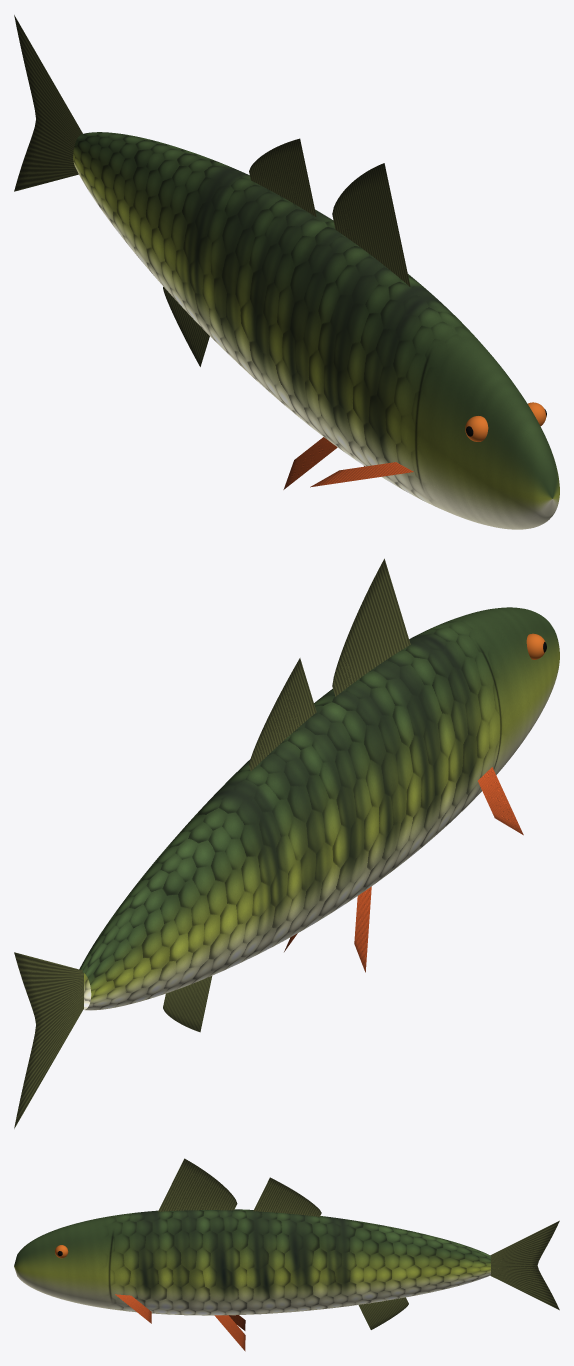
File: okun.obj
3 views of the same model, one above another, from view 1: azimuth 30°, elevation 25°; view 2: azimuth 150°, elevation 25°; view 3: azimuth 270°, elevation 25° (orthographic). The views are drawn at different scales.
Parts seen in each view (by area): view 1: body, fin_tail, fin_dorsal0, fin_dorsal1, fin_anal0, fin_pect_R, fin_pelv_R; view 2: body, fin_tail, fin_dorsal0, fin_dorsal1, fin_anal0, fin_pect_R, fin_pelv_R; view 3: body, fin_tail, fin_dorsal0, fin_dorsal1, fin_anal0, fin_pelv_L, fin_pect_L.
Boxes of the visible parts, box(x1,y1,x2,y2) form: body: box(73, 132, 559, 529); fin_tail: box(14, 15, 82, 191); fin_dorsal0: box(332, 163, 410, 286); fin_dorsal1: box(249, 138, 316, 216); fin_anal0: box(163, 287, 209, 366); fin_pect_R: box(310, 462, 413, 487); fin_pelv_R: box(283, 437, 337, 489); body: box(79, 607, 559, 1010); fin_tail: box(14, 952, 83, 1128); fin_dorsal0: box(332, 558, 410, 696); fin_dorsal1: box(249, 658, 316, 770); fin_anal0: box(163, 976, 212, 1032); fin_pect_R: box(478, 767, 523, 835); fin_pelv_R: box(354, 886, 371, 972); body: box(14, 1209, 490, 1315); fin_tail: box(490, 1220, 559, 1310); fin_dorsal0: box(158, 1158, 237, 1211); fin_dorsal1: box(253, 1177, 321, 1216); fin_anal0: box(358, 1297, 408, 1329); fin_pelv_L: box(214, 1315, 245, 1351); fin_pect_L: box(115, 1294, 151, 1323).
Bounding box in the file's own units: 0.069 × 0.111 × 0.3.
5 materials, 3 textured.
